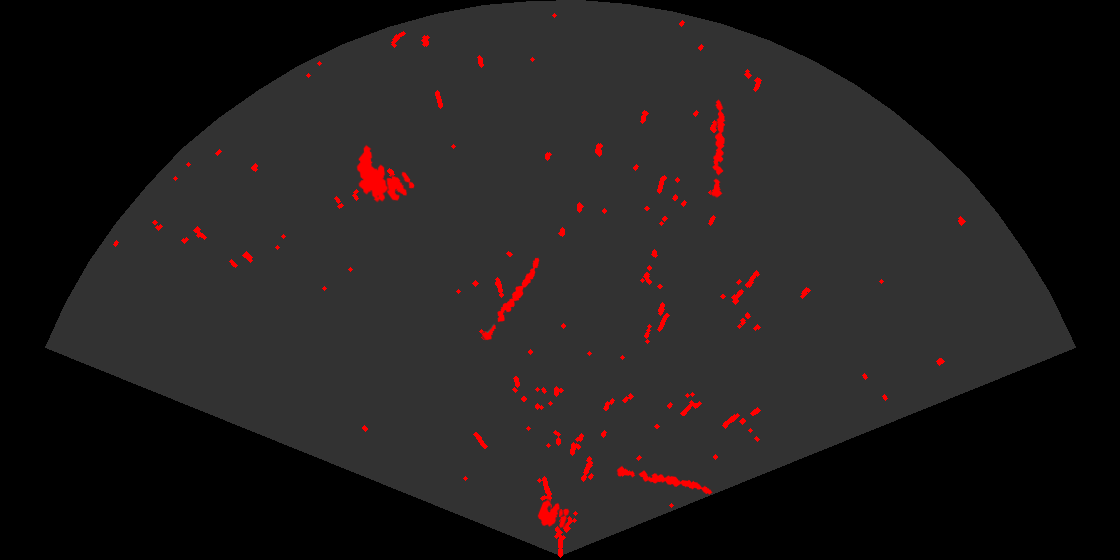AUV: (355, 143, 390, 204)
ball: (536, 498, 571, 530), (382, 170, 416, 202)
chain: (480, 256, 541, 342), (615, 464, 714, 496), (710, 98, 727, 200)
